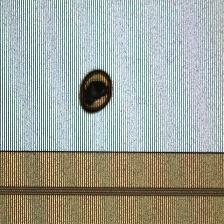PARTICLE: (75, 64, 117, 118)
